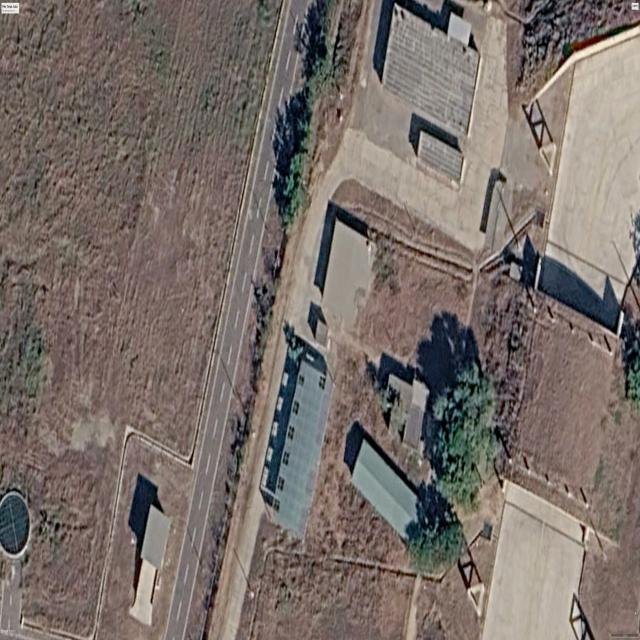Home: (260, 330, 333, 538), (382, 3, 479, 136), (352, 439, 417, 538), (322, 218, 373, 330)
